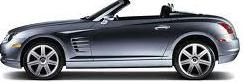backlight: (215, 19, 239, 40)
headlight: (3, 30, 19, 47)
side_glass: (91, 2, 180, 21)
